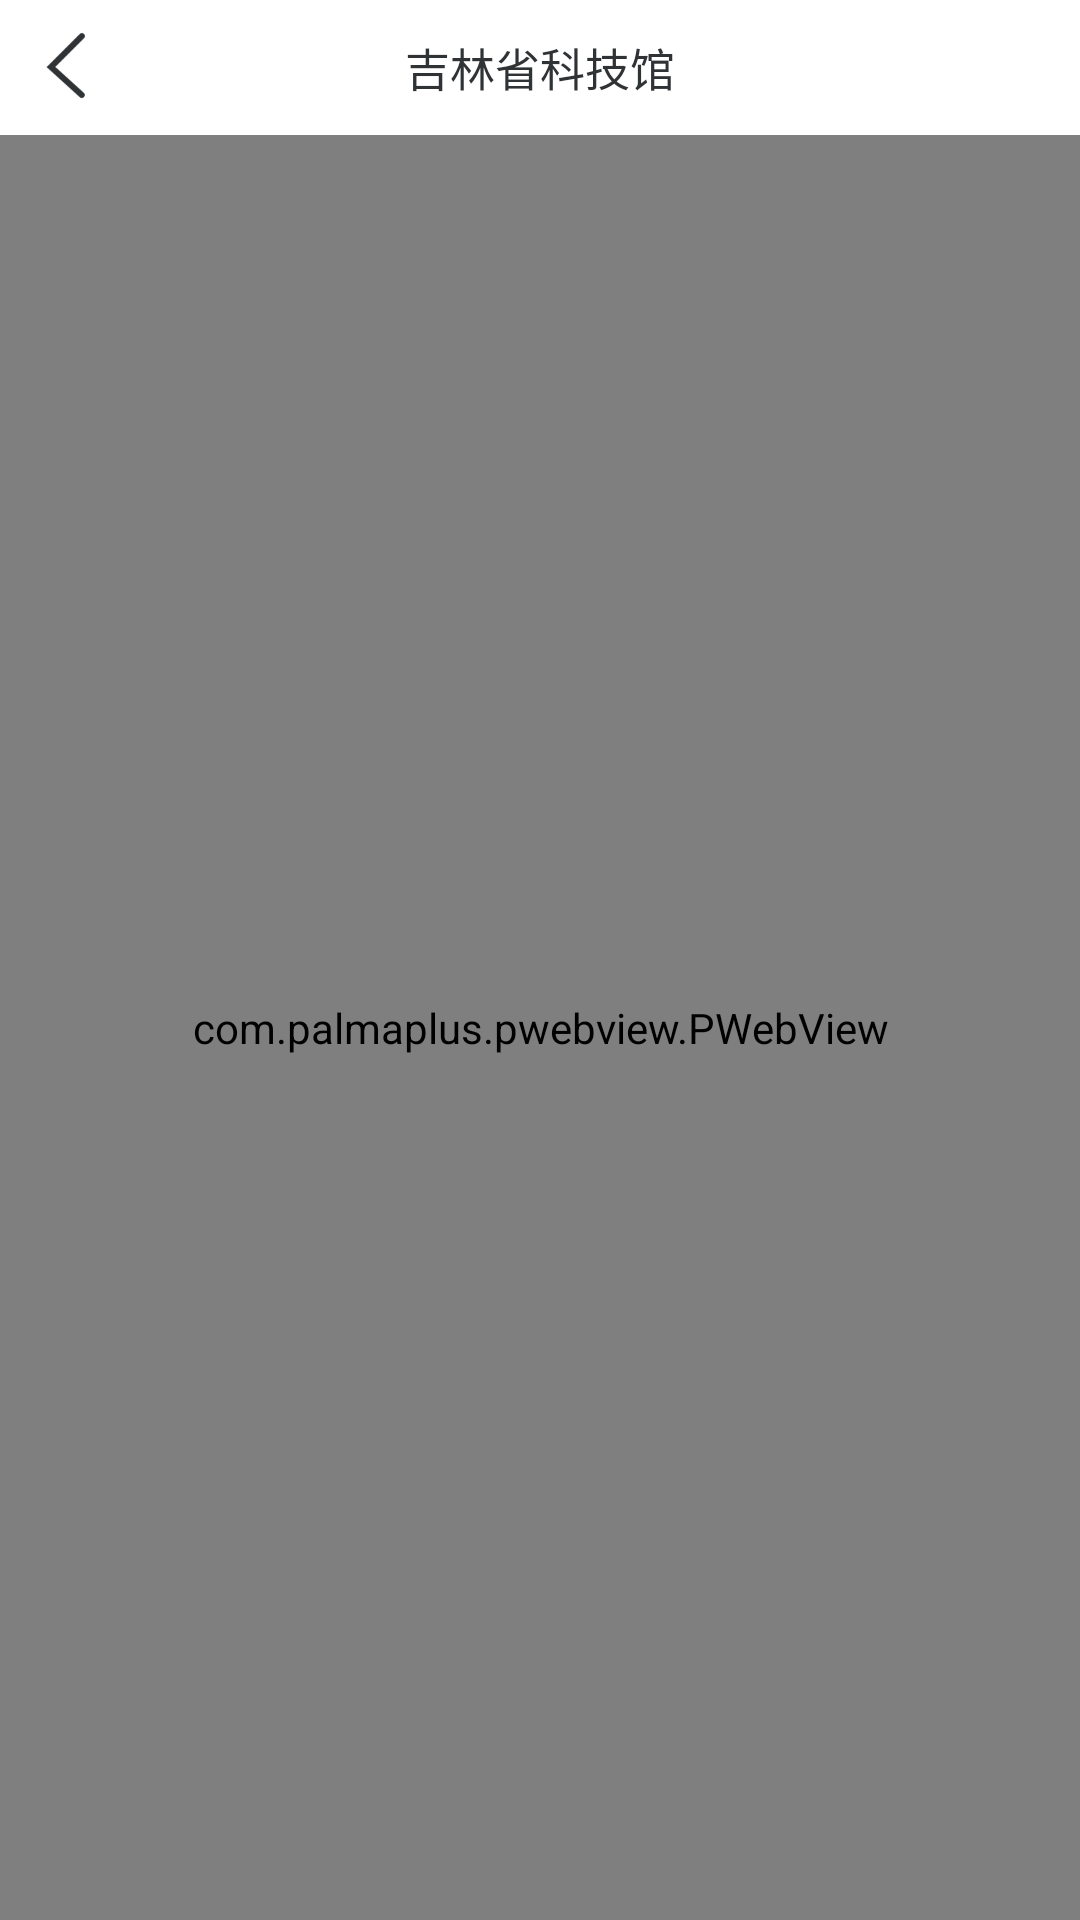

Locate icon controls on the screen. Image size 1080 x 1920, boxes as [x1=x1, y1=y1, x2=x2, y2=y2].
back: [x1=46, y1=33, x2=85, y2=98]
